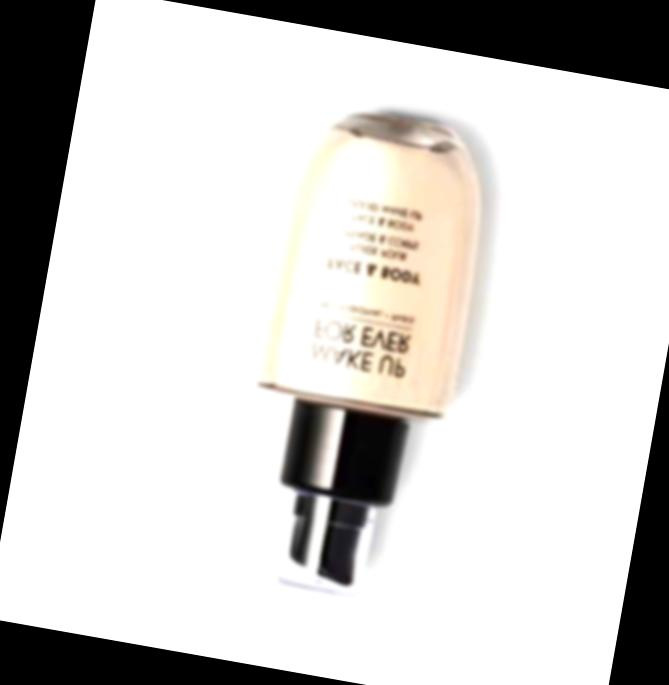cosmetic: (221, 97, 502, 610)
